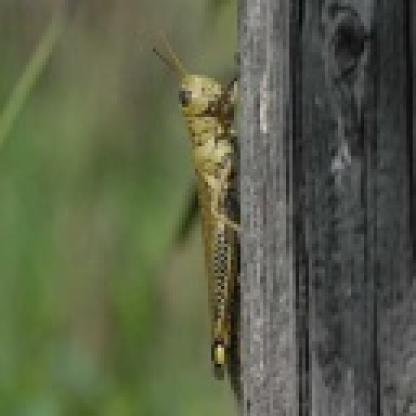grasshopper: (145, 36, 256, 391)
